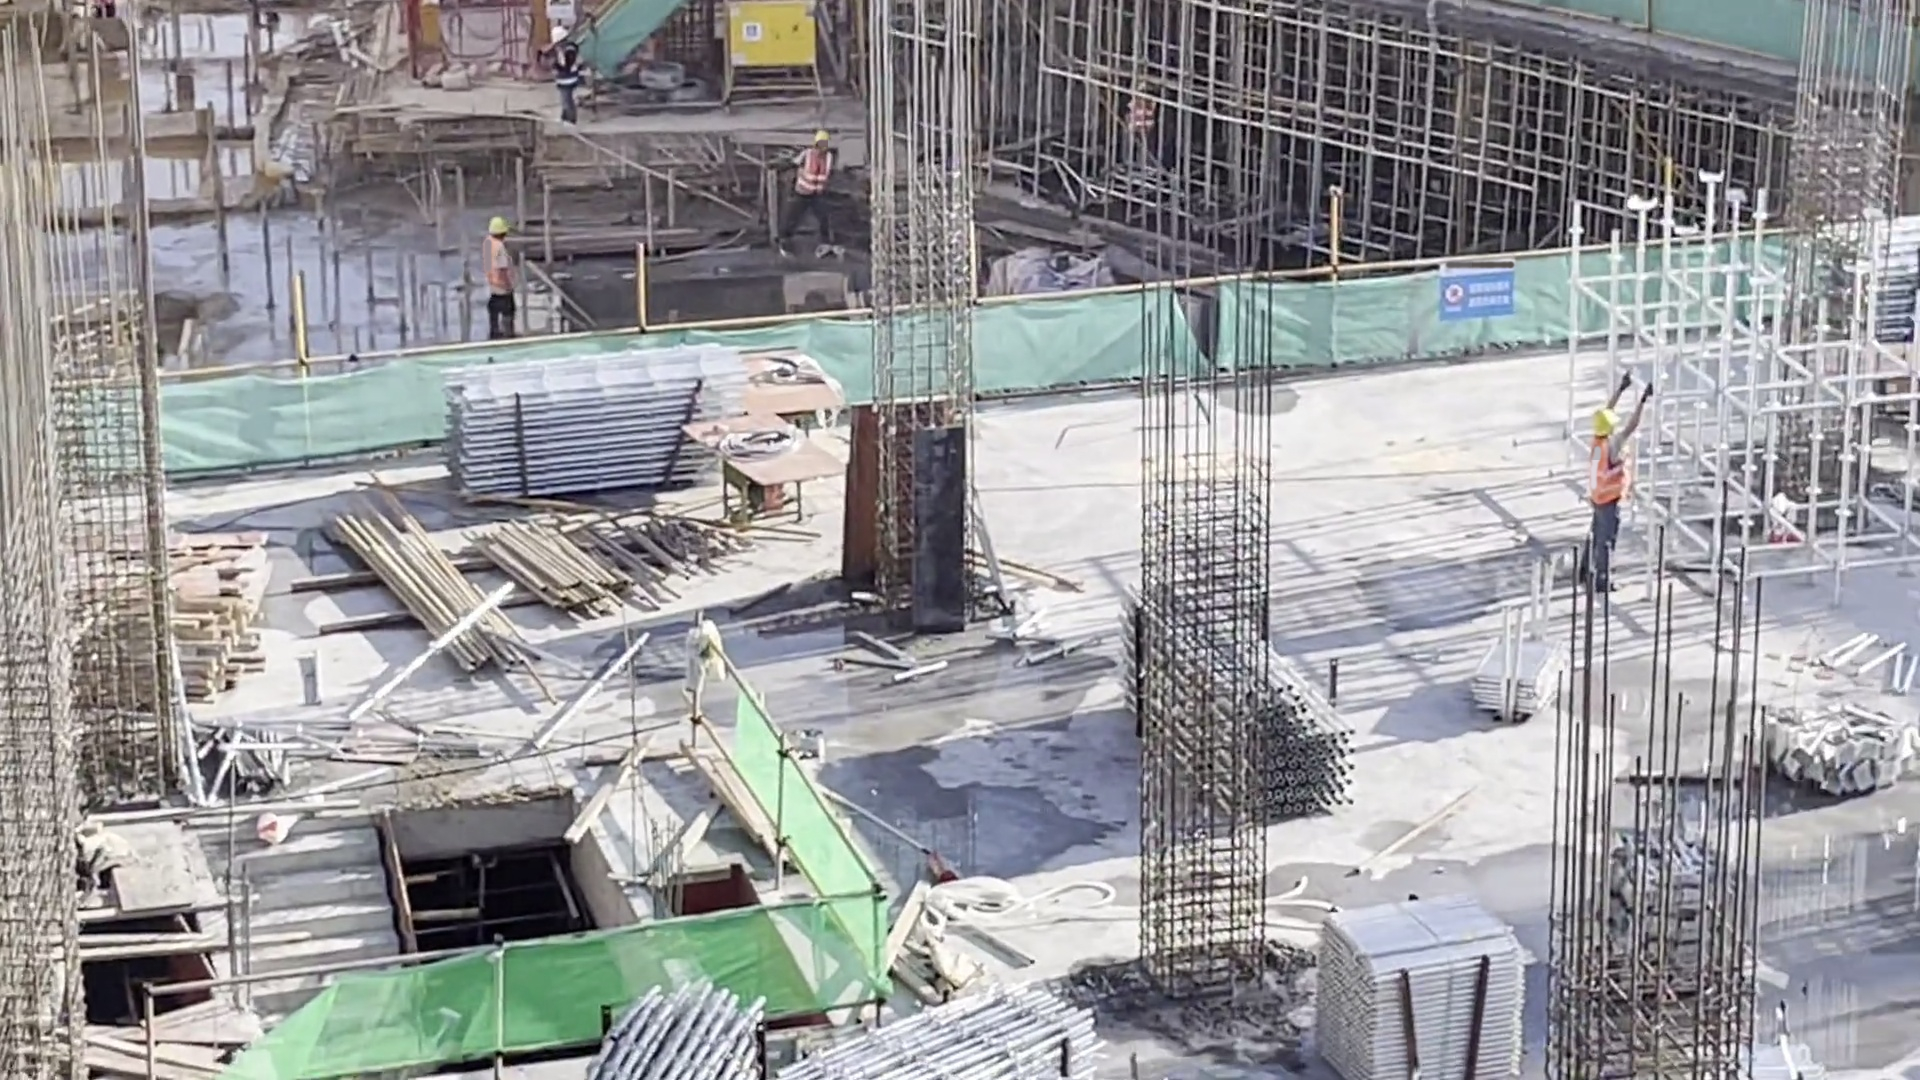cutter: (724, 422, 809, 518), (751, 341, 827, 414)
ebox: (736, 9, 813, 72)
helmet: (1592, 407, 1627, 434), (484, 215, 507, 239), (548, 27, 574, 45), (1138, 82, 1156, 100), (811, 133, 836, 146)
person: (1577, 371, 1654, 594), (771, 123, 840, 269), (541, 27, 603, 134), (1114, 71, 1169, 179), (480, 221, 524, 345)
scaffold: (433, 364, 749, 493), (1132, 607, 1335, 805), (1349, 911, 1536, 1080), (828, 968, 1089, 1080), (1813, 235, 1920, 347), (596, 984, 717, 1080), (1468, 637, 1549, 705)
slogan: (1441, 273, 1507, 313)
vest: (1590, 448, 1629, 515), (794, 149, 834, 201), (489, 242, 516, 303), (550, 51, 578, 92), (1127, 103, 1159, 139)
wood: (87, 543, 257, 733)
